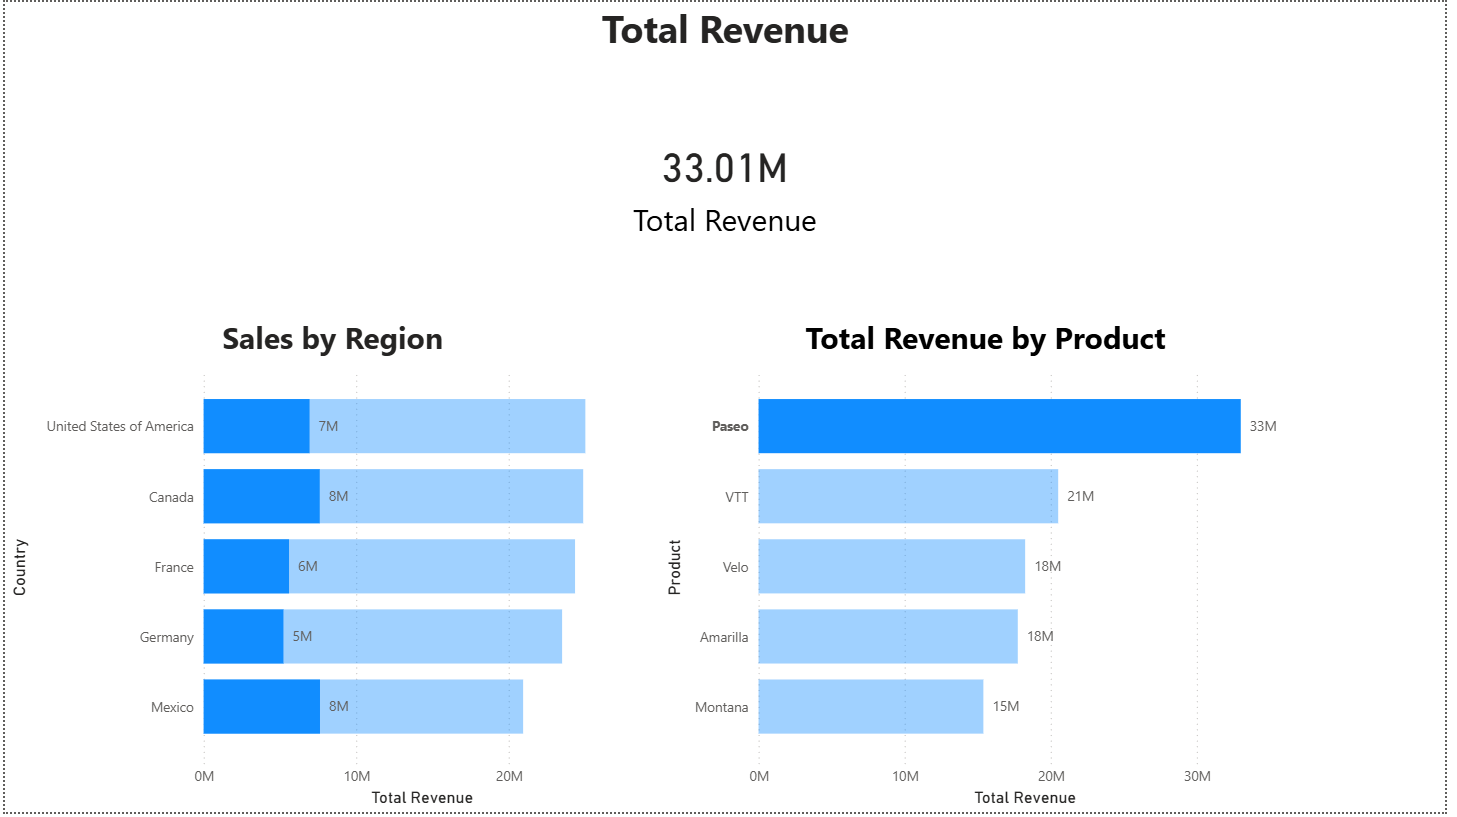

This screenshot's page, from the dashboard's own definition file:
{"tool":"powerbi","page":{"name":"Page 1","canvas":[1280,720],"ordinal":0},"visuals":[{"type":"card","title":"Total Revenue","fields":{"Values":["Sheet1.Total Revenue"]},"box":[28.8,0,1222.5,280],"z":0},{"type":"clusteredBarChart","title":"Sales by Region","fields":{"Category":["Sheet1.Country"],"Y":["Sheet1.Total Revenue"]},"box":[0,280,582.5,440],"z":1},{"type":"barChart","fields":{"Category":["Sheet1.Product"],"Y":["Sheet1.Total Revenue"]},"box":[582.5,280,578.8,440],"z":2}]}

Visuals, with their boxes in screenshot pixels (x1, y1, x2, y2), scaled from the page's 1280x720 canvas onto the 1457x817 screenshot:
"Total Revenue" card: crop(33, 0, 1424, 318)
"Sales by Region" clusteredBarChart: crop(0, 318, 663, 816)
barChart - Sheet1.Product x Sheet1.Total Revenue: crop(663, 318, 1322, 816)
